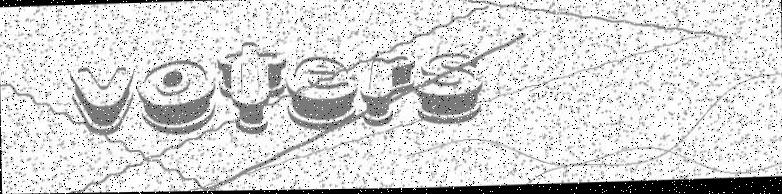e: (286, 53, 363, 134)
o: (138, 60, 216, 137)
r: (359, 52, 418, 131)
s: (417, 51, 486, 133)
t: (217, 38, 289, 143)
v: (63, 63, 136, 138)
